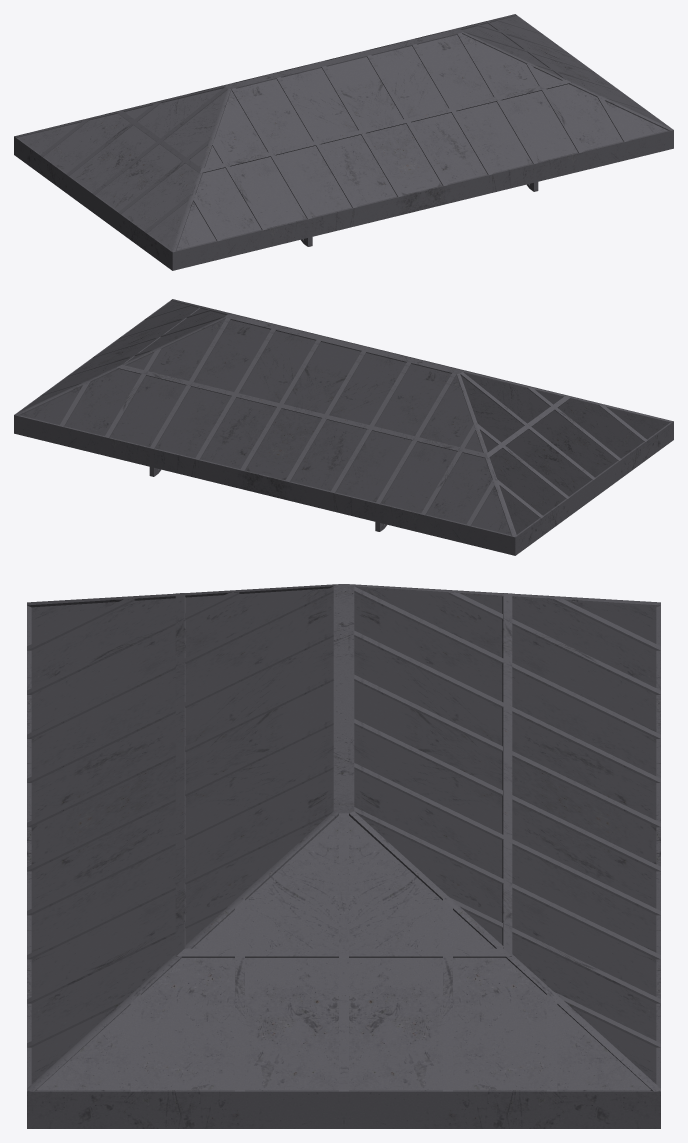
The model's file is ratatouille_-_skylight.glb.
3 views of the same model, one above another, from view 1: azimuth 30°, elevation 25°; view 2: azimuth 150°, elevation 25°; view 3: azimuth 270°, elevation 25° (orthographic). The views are drawn at different scales.
Parts seen in each view (by area): view 1: Window_Plane_01_low, Components, Window_Plane_02_low; view 2: Window_Plane_01_low, Components, Window_Plane_02_low; view 3: Window_Plane_01_low, Components, Window_Plane_02_low.
Part boxes in pixels (<box>): Window_Plane_01_low: <box>176,34,667,249</box>; Components: <box>14,14,673,270</box>; Window_Plane_02_low: <box>18,16,667,249</box>; Window_Plane_01_low: <box>20,319,511,534</box>; Components: <box>14,299,673,555</box>; Window_Plane_02_low: <box>20,301,669,534</box>; Window_Plane_01_low: <box>31,588,656,1083</box>; Components: <box>27,584,660,1128</box>; Window_Plane_02_low: <box>37,816,650,1089</box>.
Bounding box in the file's own units: 566 × 110 × 310.
Materials: 2 (2 with a texture image).
